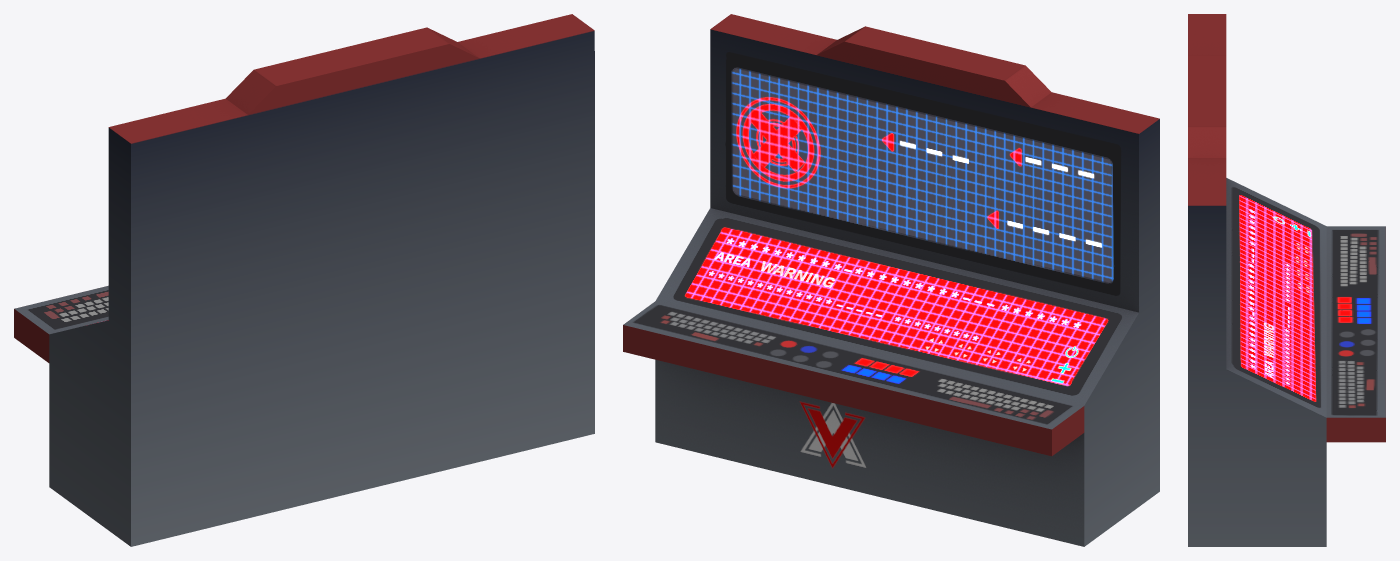
The model's file is FUT0510011.fbx.
3 views of the same model, side by side, from view 1: azimuth 30°, elevation 25°; view 2: azimuth 150°, elevation 25°; view 3: azimuth 270°, elevation 25° (orthographic). The views are drawn at different scales.
Parts seen in each view (by area): view 1: smFUT0510011; view 2: smFUT0510011; view 3: smFUT0510011.
Boxes of the visible parts, box(x1,y1,x2,y2) form: smFUT0510011: box(14, 14, 594, 546); smFUT0510011: box(623, 14, 1159, 546); smFUT0510011: box(1188, 14, 1385, 546).
Bounding box in the file's own units: 281 × 246 × 123.
1 material, 1 textured.
